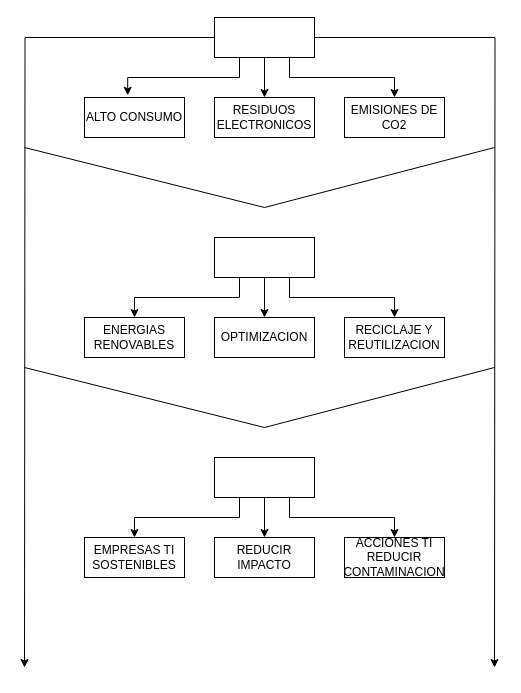
The diagram is 521 pixels wide and 693 high, and some of its shapes have lost their labels. Here are the shapes that lost their labels. From the top down, the centre of each, then its label:
[264,37]: ACTIVIDADES SOSTENIBLES
[264,257]: ESTRATEGIAS
[264,477]: EJEMPLOS Y BUENAS PRACTICAS
